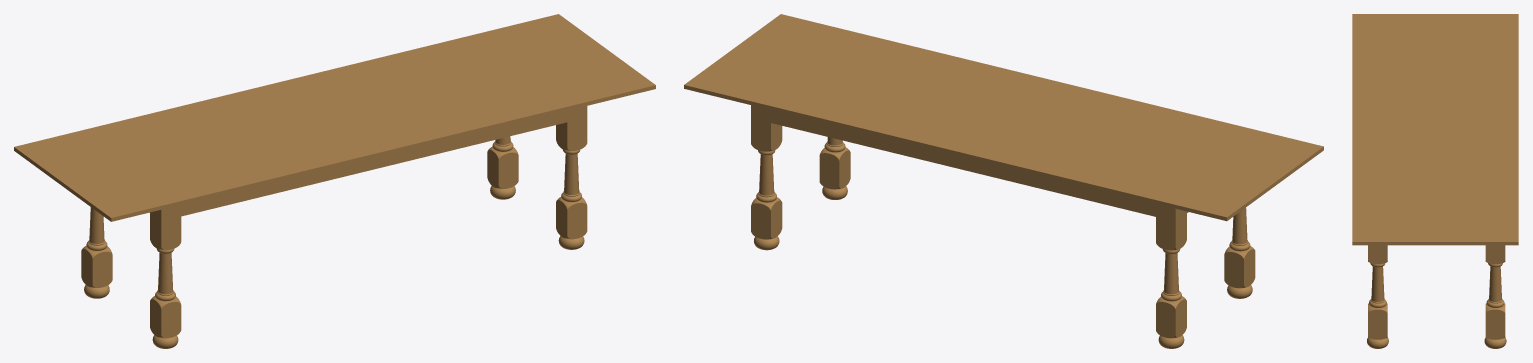
3 renders of one model, left to right at view 1: azimuth 30°, elevation 25°; view 2: azimuth 150°, elevation 25°; view 3: azimuth 270°, elevation 25°, orthographic. The views are drawn at different scales.
Parts seen in each view (by area): view 1: top_board (×4), leg (×9), long_stretcher, breadboard_end (×2); view 2: top_board (×4), leg (×9), long_stretcher, breadboard_end (×2); view 3: top_board (×4), leg (×8), breadboard_end (×2).
Part boxes in pixels (x1,y1,x2,y2): top_board (×4): (22,16,650,219); leg (×9): (81,106,587,338); long_stretcher: (181,111,567,216); breadboard_end (×2): (14,14,655,221); top_board (×4): (689,16,1315,219); leg (×9): (751,105,1255,338); long_stretcher: (771,110,1155,216); breadboard_end (×2): (684,14,1323,221); top_board (×4): (1352,17,1518,238); leg (×8): (1367,245,1506,348); breadboard_end (×2): (1352,14,1518,245).
Size of the model in its own units: 110 by 34 by 30.
